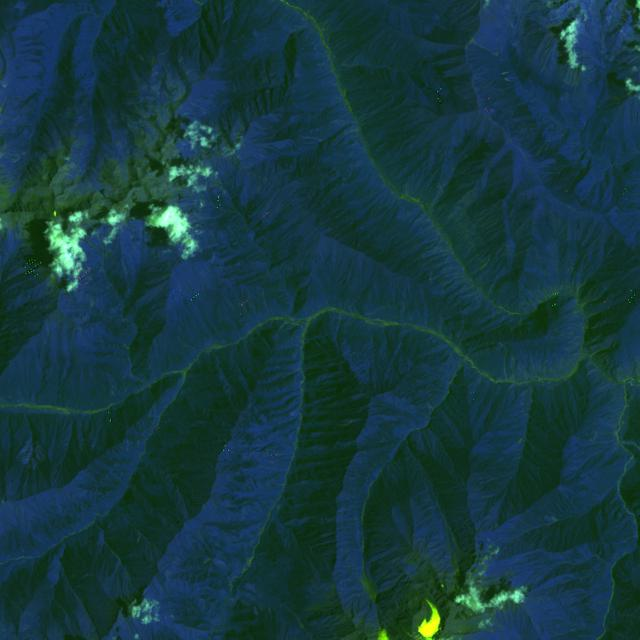landslides: (52, 215, 104, 255), (289, 277, 311, 316), (200, 198, 235, 213), (471, 38, 499, 56), (427, 188, 448, 210), (176, 336, 199, 355), (262, 291, 272, 315), (500, 442, 518, 454), (248, 298, 259, 316), (509, 355, 516, 382), (503, 347, 508, 380), (596, 555, 611, 566), (492, 0, 506, 10), (122, 256, 129, 276), (523, 295, 532, 310), (207, 268, 216, 283), (300, 136, 322, 142), (438, 319, 446, 335), (537, 288, 547, 300), (595, 431, 617, 436), (544, 515, 557, 523), (174, 128, 184, 138)
